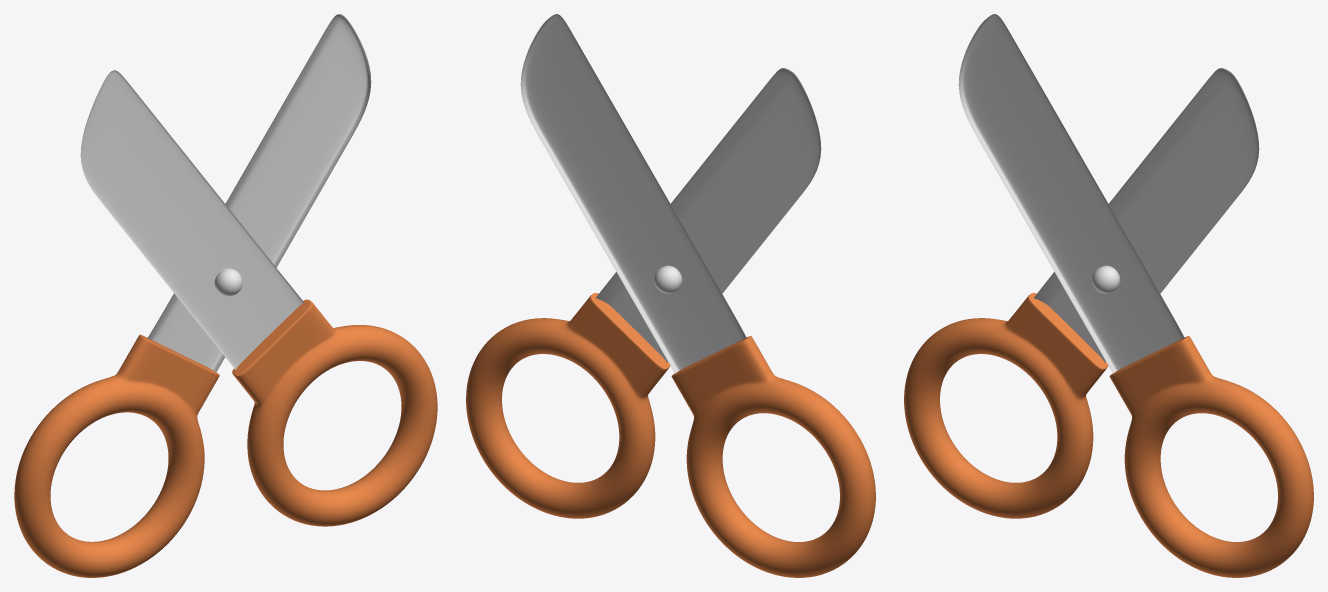
Rendered from scissor.glb.
The picture shows the model from 3 angles, left to right: view 1: azimuth 30°, elevation 25°; view 2: azimuth 150°, elevation 25°; view 3: azimuth 330°, elevation 25°; orthographic projection.
Visible parts, largest first — view 1: scissor_01.001; view 2: scissor_01.001; view 3: scissor_01.001.
Boxes of the visible parts, x1=… form: scissor_01.001: x1=14, y1=14, x2=437, y2=577; scissor_01.001: x1=466, y1=14, x2=875, y2=577; scissor_01.001: x1=904, y1=14, x2=1313, y2=577.
Size of the model in its own units: 1.65 by 1.94 by 0.1653.
